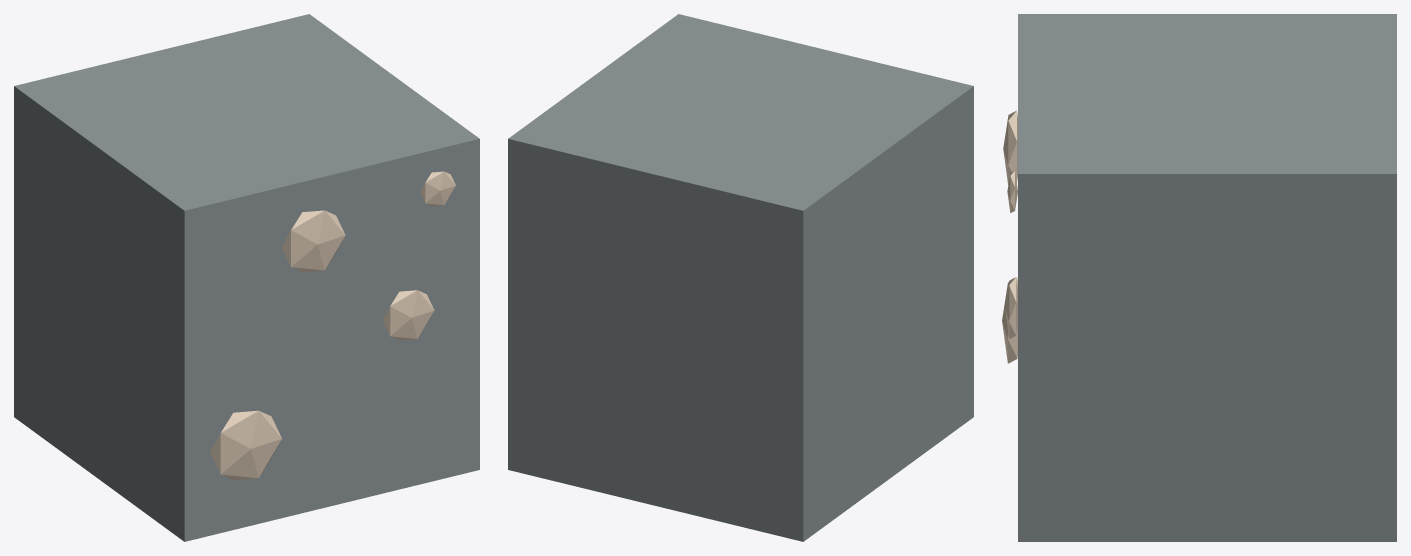
File: bp_stoneblock.glb
3 renders of one model, left to right at view 1: azimuth 30°, elevation 25°; view 2: azimuth 150°, elevation 25°; view 3: azimuth 270°, elevation 25°, orthographic. The views are drawn at different scales.
Visible parts, largest first — view 1: stone_core, stone_chip, stone_chip.002, stone_chip.001, stone_chip.003; view 2: stone_core; view 3: stone_core, stone_chip.002, stone_chip.001, stone_chip.
Boxes of the visible parts, x1,y1,x2,y2 form: stone_core: (14,14,479,541); stone_chip: (210,410,281,480); stone_chip.002: (281,210,345,272); stone_chip.001: (382,290,434,340); stone_chip.003: (420,171,455,206); stone_core: (508,14,973,541); stone_core: (1018,14,1396,541); stone_chip.002: (1003,110,1017,184); stone_chip.001: (1005,277,1017,338); stone_chip: (1002,277,1017,363).
Bounding box in the file's own units: 1.4 × 1.5 × 1.46.
